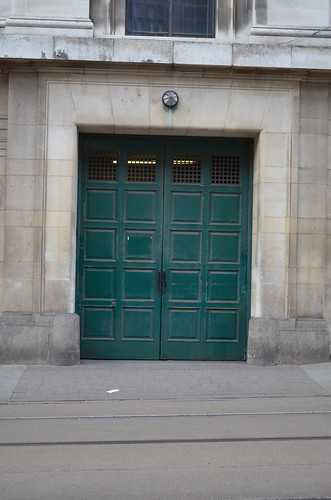door: (84, 130, 247, 364)
